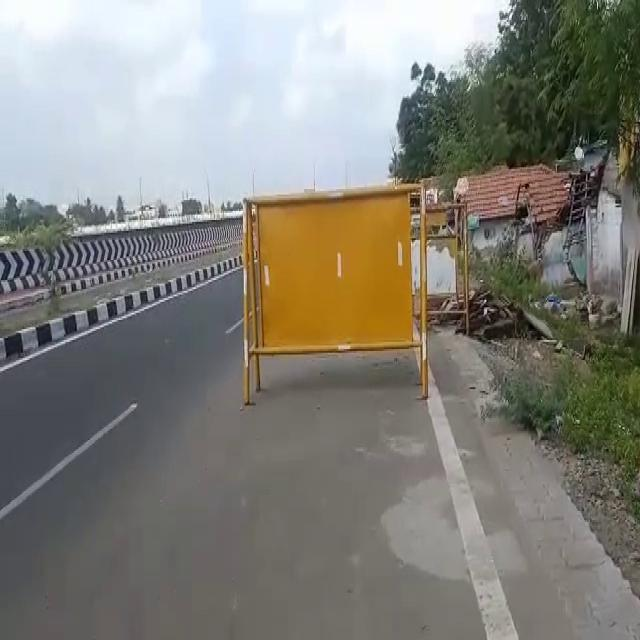fallen_object: (216, 176, 452, 391)
